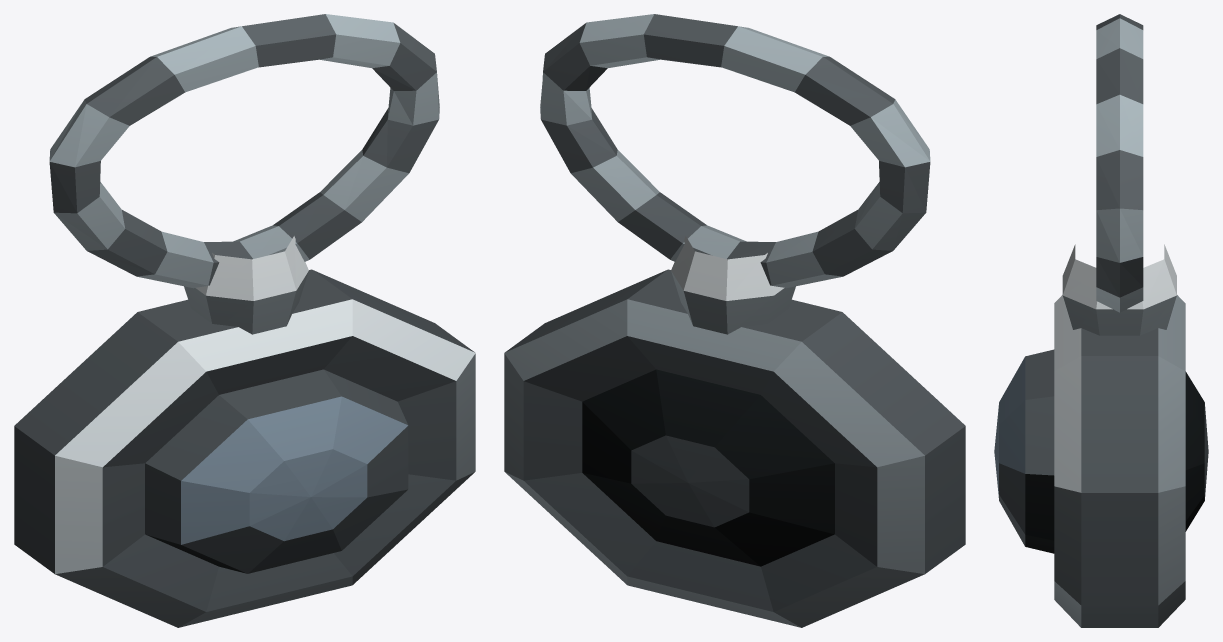
Rendered from source.glb.
3 views of the same model, side by side, from view 1: azimuth 30°, elevation 25°; view 2: azimuth 150°, elevation 25°; view 3: azimuth 270°, elevation 25° (orthographic). The views are drawn at different scales.
Visible parts, largest first — view 1: model; view 2: model; view 3: model.
Part boxes in pixels (box(x1,y1,x2,y2)): model: box(14, 14, 475, 627); model: box(504, 14, 965, 627); model: box(994, 14, 1208, 627).
Size of the model in its own units: 0.56 by 0.72 by 0.26.
Materials: 1 (1 with a texture image).
